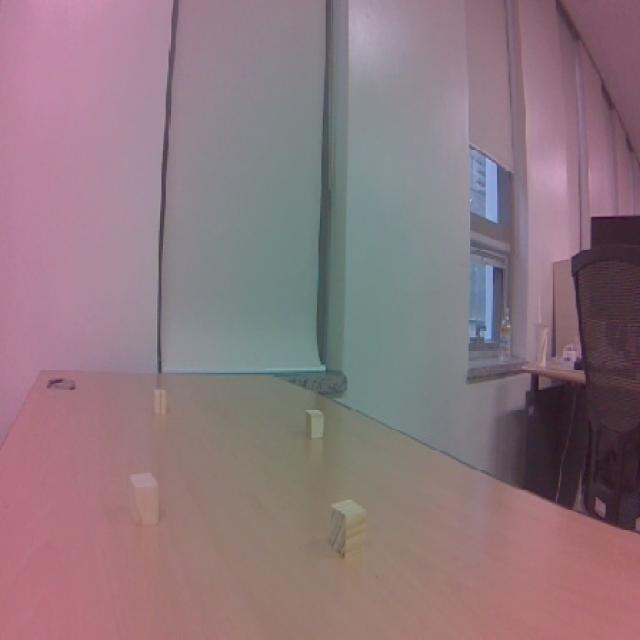obstacle: (119, 461, 171, 537), (325, 495, 375, 561), (299, 402, 330, 443)
